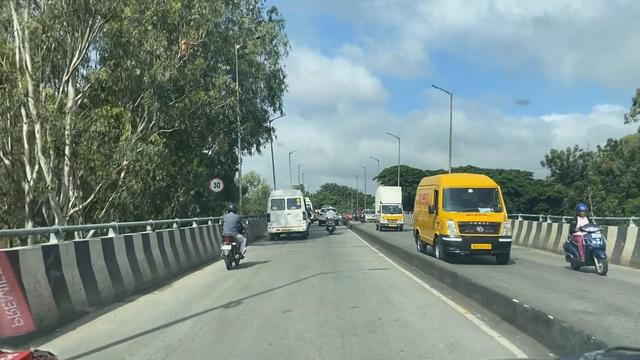HMV: (265, 189, 311, 244)
LMV: (218, 198, 245, 274), (321, 205, 333, 236)
